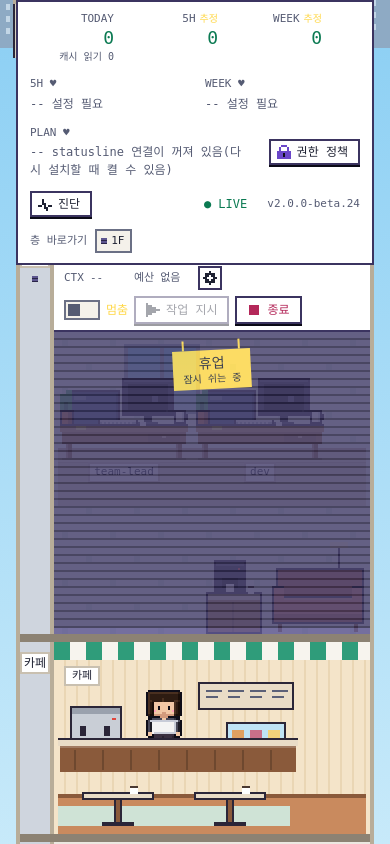
Test: 일시정지 층(§1.5·§1.6·§2) › 말풍선은 일시정지 층의 구성원에 휴업 줄을 쓴다
(page scrolled)
Hover over the button with test id "desk-dev" at {"x": 260, "y": 423}, box [194,340,326,506]
Wait 1000 ms
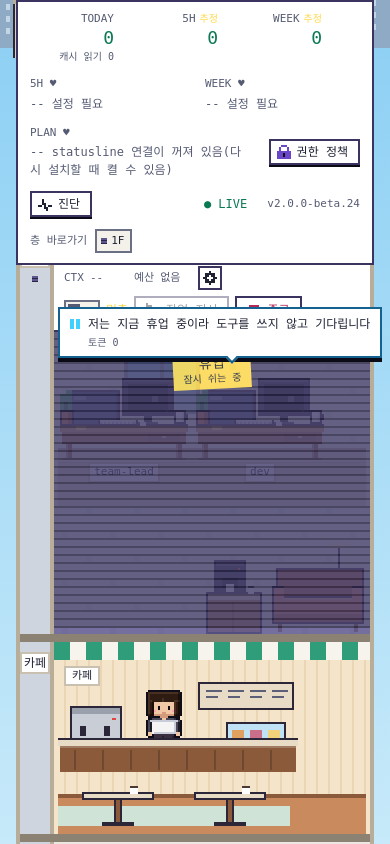
Result: the tooltip shows "저는 지금 휴업 중이라 도구를 쓰지 않고 기다립니다" at [88,317,370,331]
